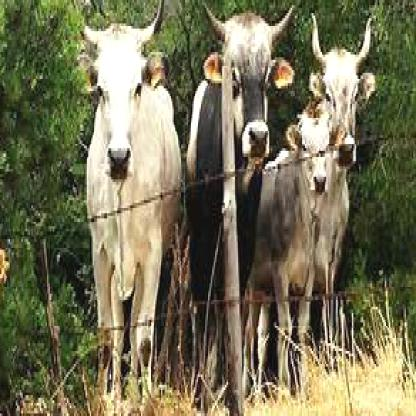cow: (187, 0, 296, 380), (80, 0, 184, 398), (255, 117, 346, 369), (305, 13, 377, 309)
